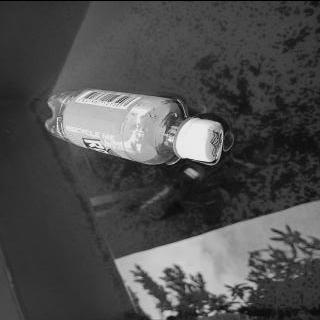bottle: (41, 86, 226, 165)
